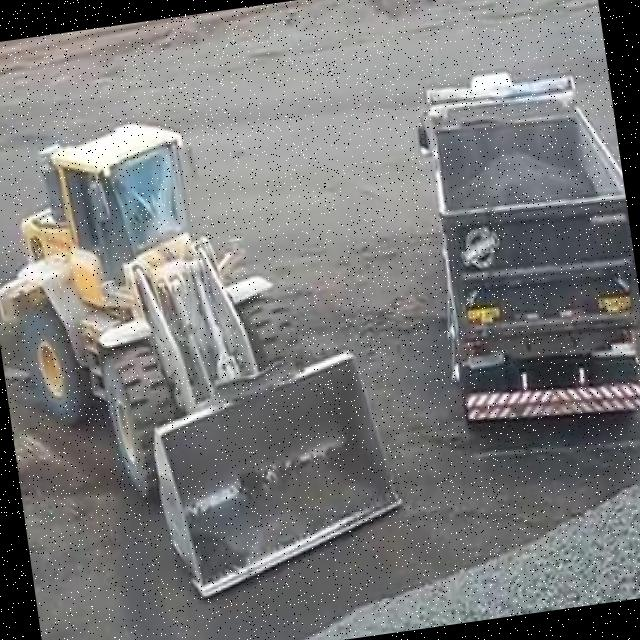Dump Truck: (389, 49, 640, 446)
Loader: (0, 85, 416, 607)
